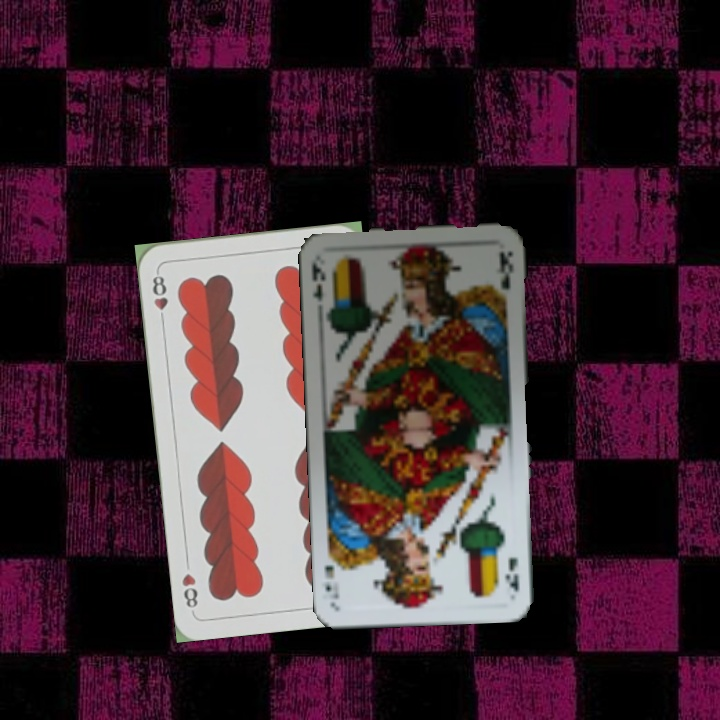EK: (307, 255, 328, 305), (505, 553, 522, 595)
H8: (148, 267, 170, 326)
